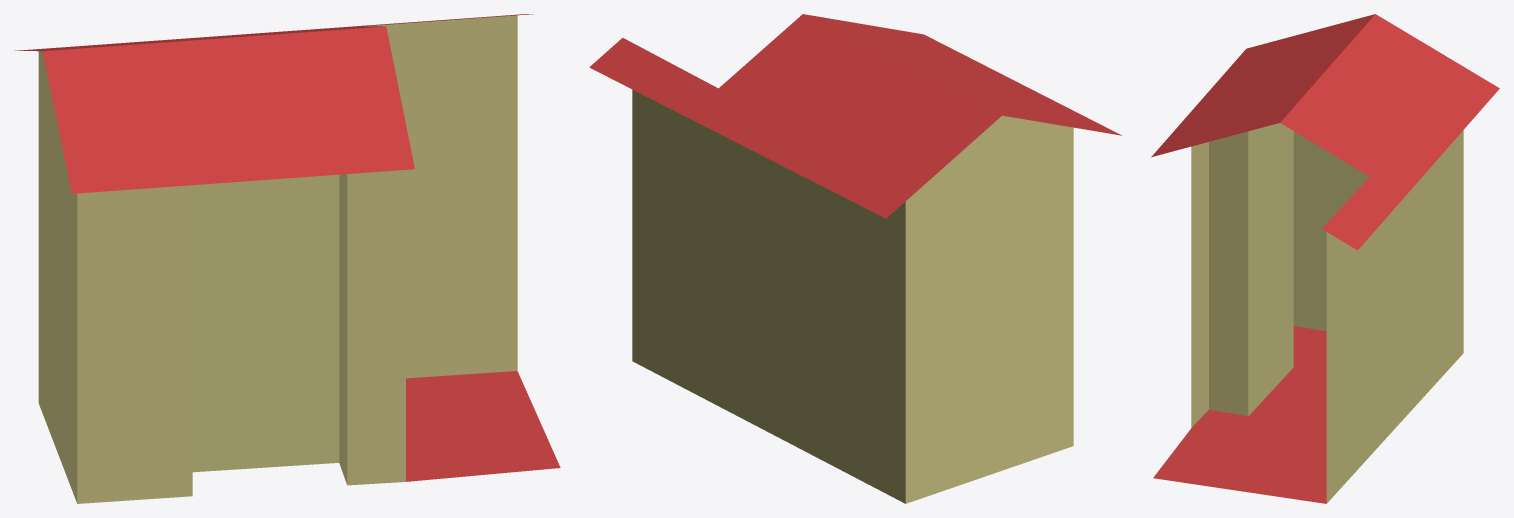
3 renders of one model, left to right at view 1: azimuth 30°, elevation 25°; view 2: azimuth 150°, elevation 25°; view 3: azimuth 270°, elevation 25°, orthographic. The views are drawn at different scales.
Bounding box in the file's own units: 14.38 × 10.5 × 10.6.
